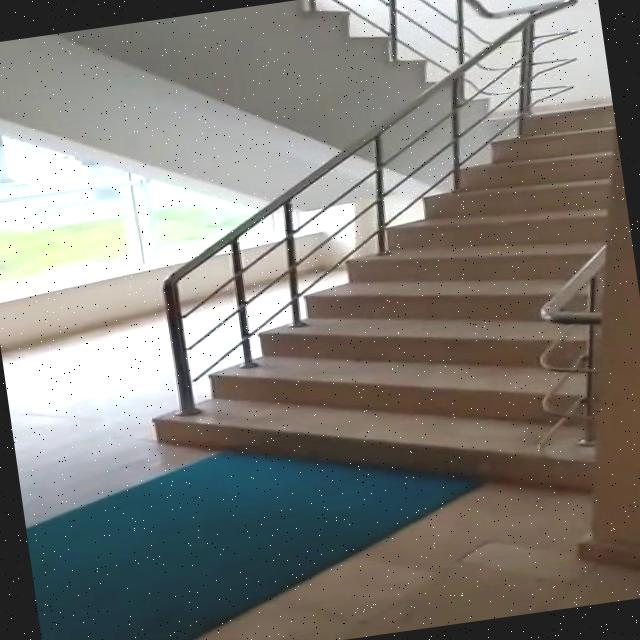stairs: (115, 101, 640, 548)
